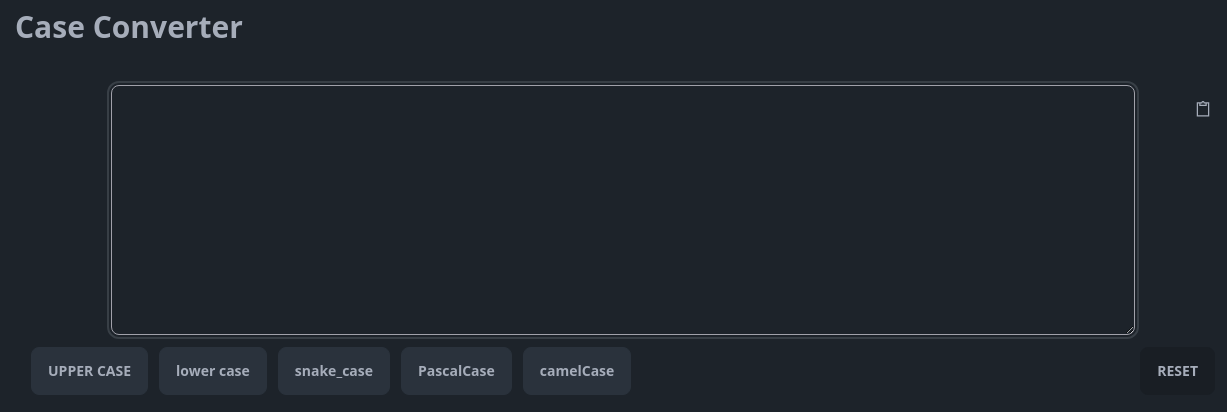
Test: App › transforms the textarea value to PascalCase when 'PascalCase' button is clicked
Type "This Is A Mock Sentence With Ten Words Exactly" into the text box at x=623, y=210, box [111, 85, 1135, 335]
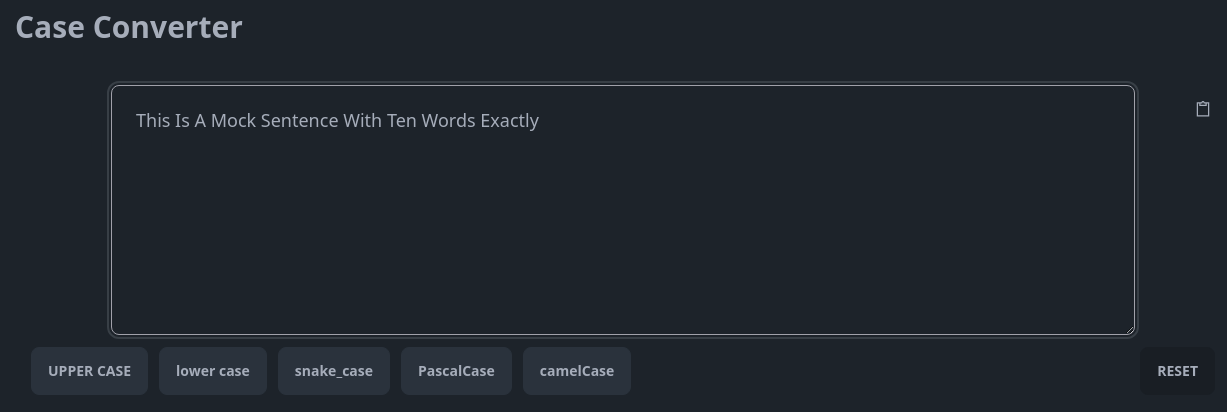
Click the button "PascalCase" at x=456, y=371, box [401, 347, 512, 395]
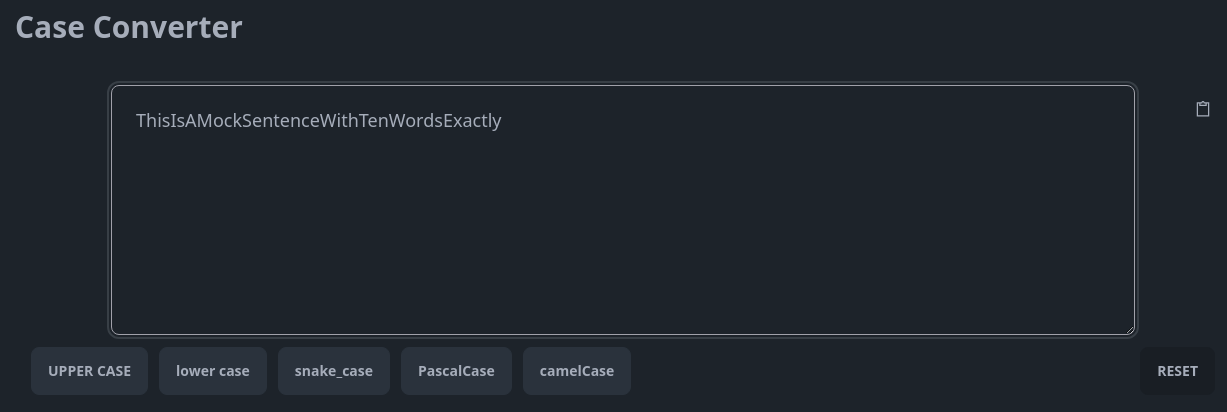
Result: the text box holds "ThisIsAMockSentenceWithTenWordsExactly" at [111, 85, 1135, 335]
